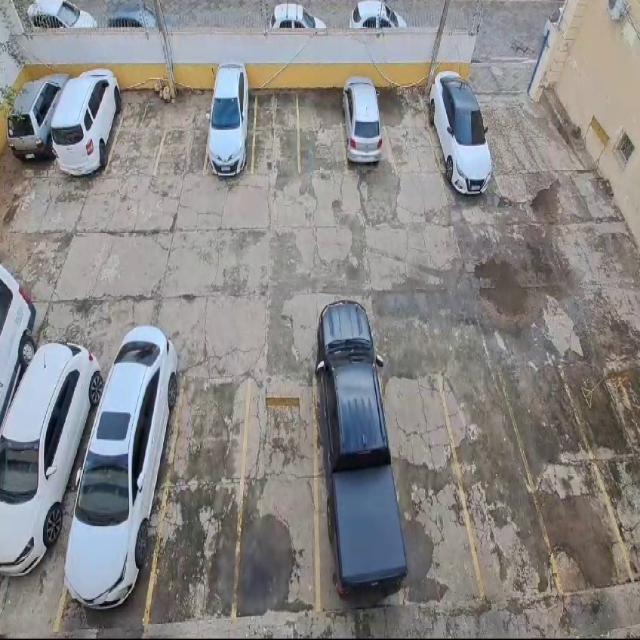empty: (502, 363, 634, 592), (440, 367, 562, 598), (146, 378, 251, 617), (380, 370, 482, 603), (237, 371, 318, 612), (108, 87, 173, 177), (155, 88, 217, 174), (382, 88, 443, 175), (295, 86, 349, 175), (252, 91, 298, 175), (254, 90, 298, 173)
notEmpty: (58, 364, 183, 625), (0, 349, 112, 633), (314, 356, 400, 609), (49, 76, 128, 181), (0, 66, 76, 175), (423, 84, 494, 193), (341, 80, 395, 177), (203, 84, 255, 177)
